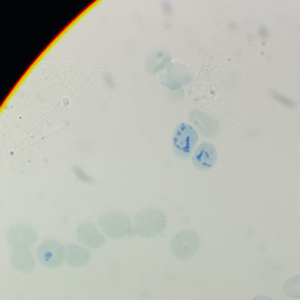aggregate reticulocyte: (169, 121, 201, 159), (190, 140, 219, 172)
erythrocyte: (97, 210, 133, 242), (158, 59, 191, 92), (35, 239, 65, 271), (74, 223, 107, 251), (7, 246, 37, 276), (61, 243, 94, 270), (4, 224, 37, 251), (143, 47, 173, 75)
punctate reticulocyte: (132, 207, 168, 241), (187, 109, 222, 141), (169, 229, 201, 261)
